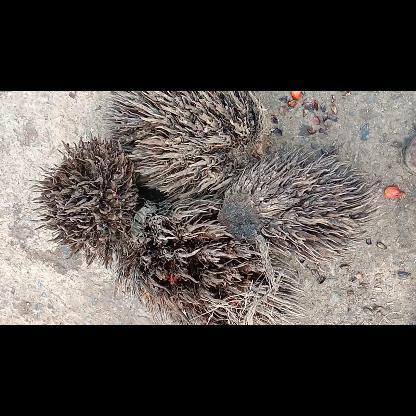Janjang kosong: (115, 200, 308, 324), (100, 91, 270, 205), (218, 148, 378, 266), (30, 132, 136, 266)
